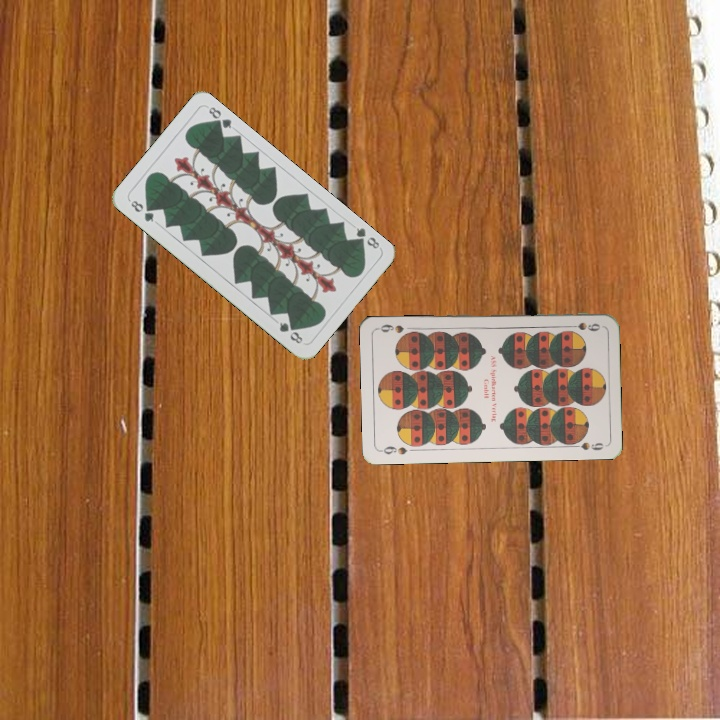G8: (350, 223, 383, 251), (126, 196, 157, 225)
S9: (563, 318, 603, 333), (377, 442, 410, 457)
